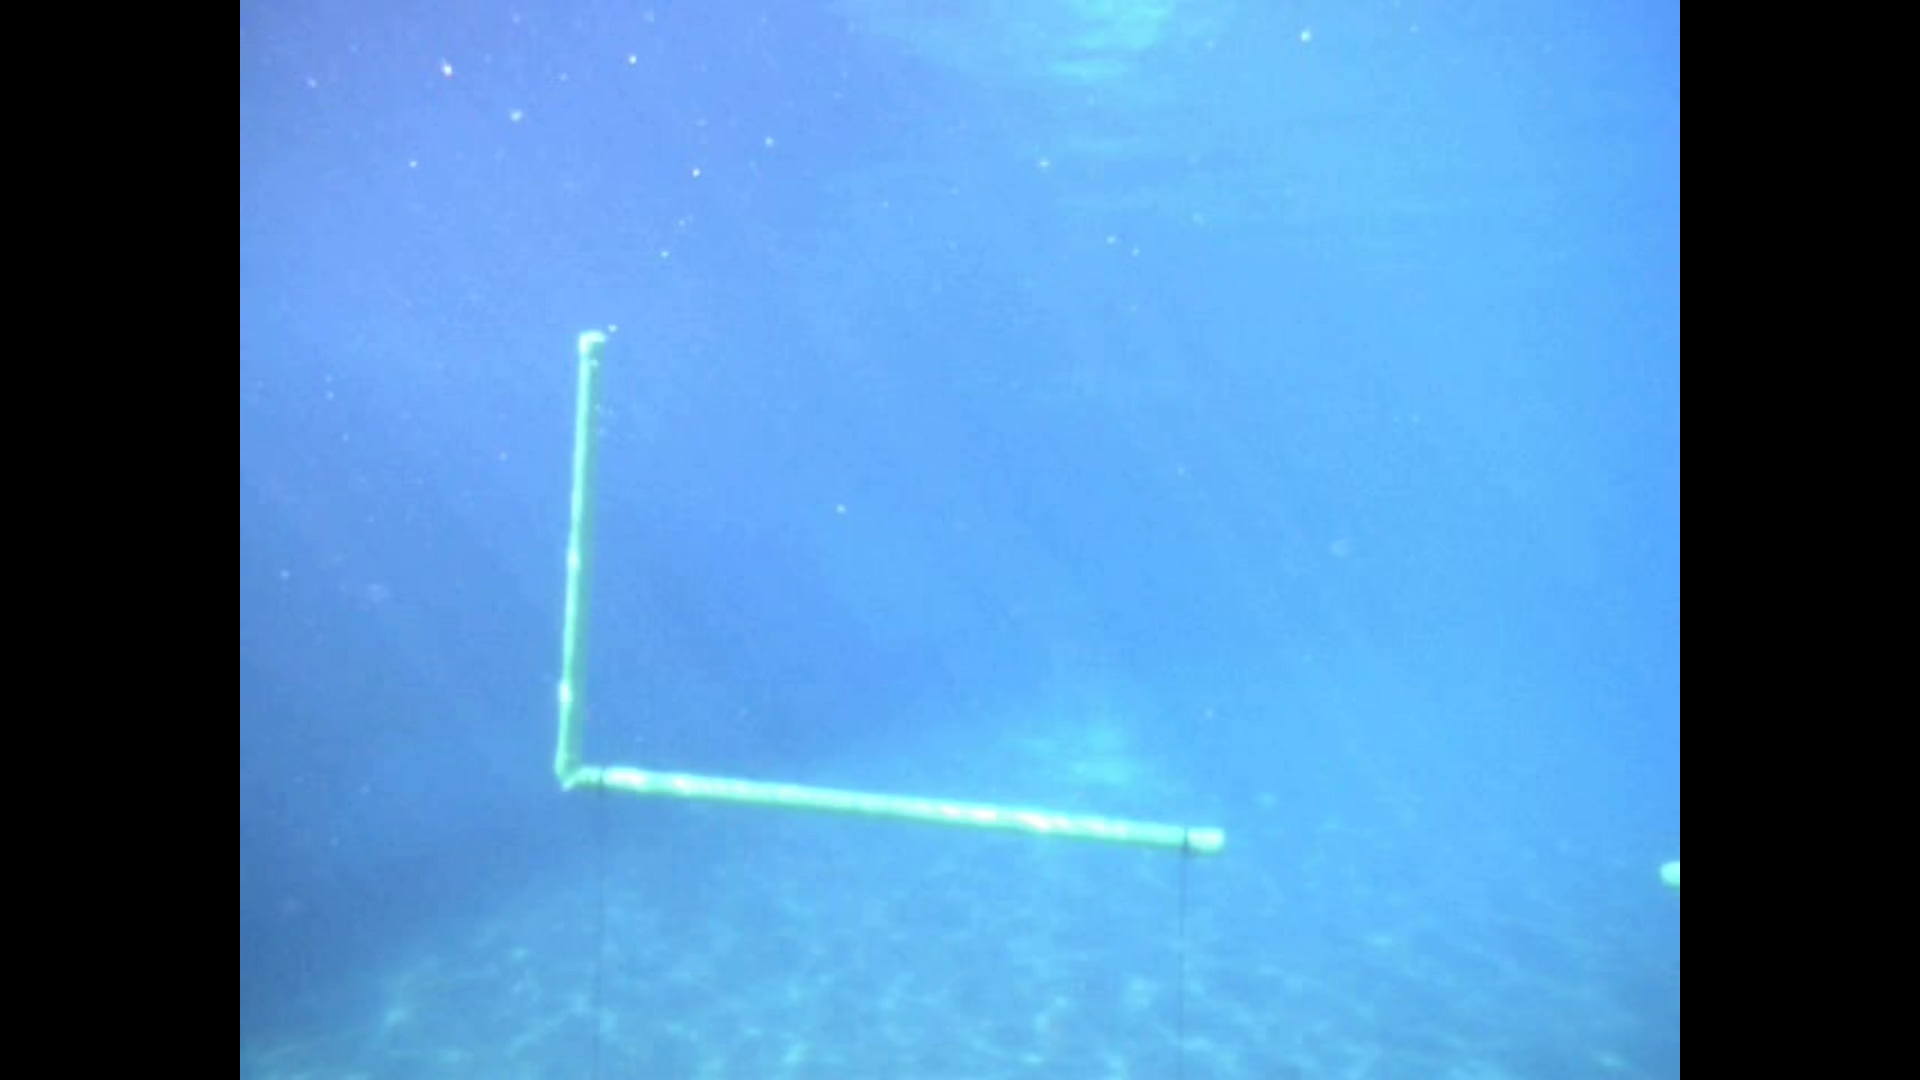gate: (546, 324, 1232, 855)
